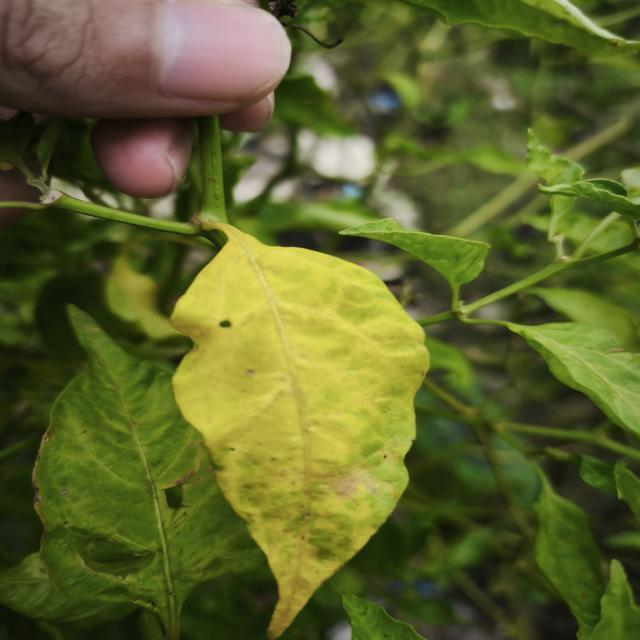Virus Kuning: (167, 219, 431, 638)
